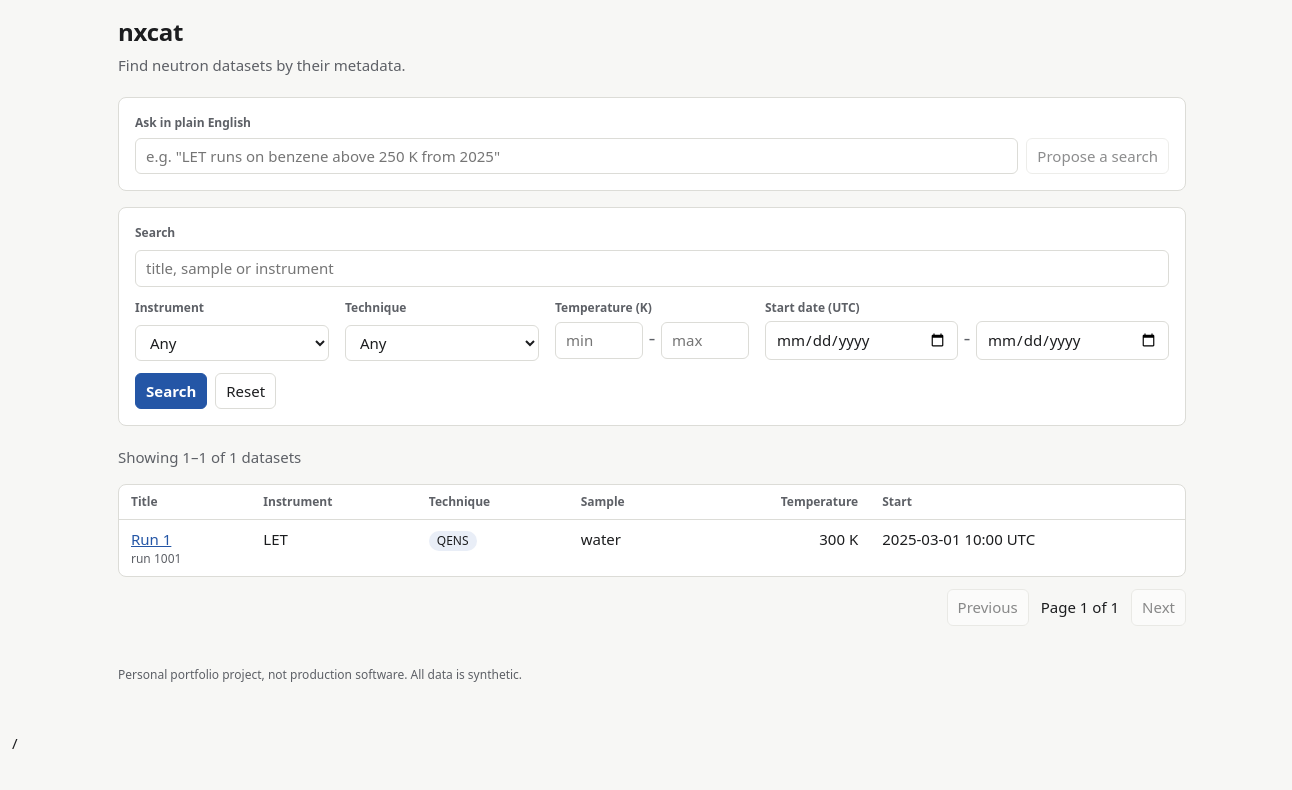
Test: plain-English search › shows the proposed filter in plain words and does not search yet
Check: the table is shown, box [119,484,1185,576]
In the field labelled "Ask in plain English": x=577, y=156 [135,138,1018,174], type "LET runs on benzene above 250 K from 2025"
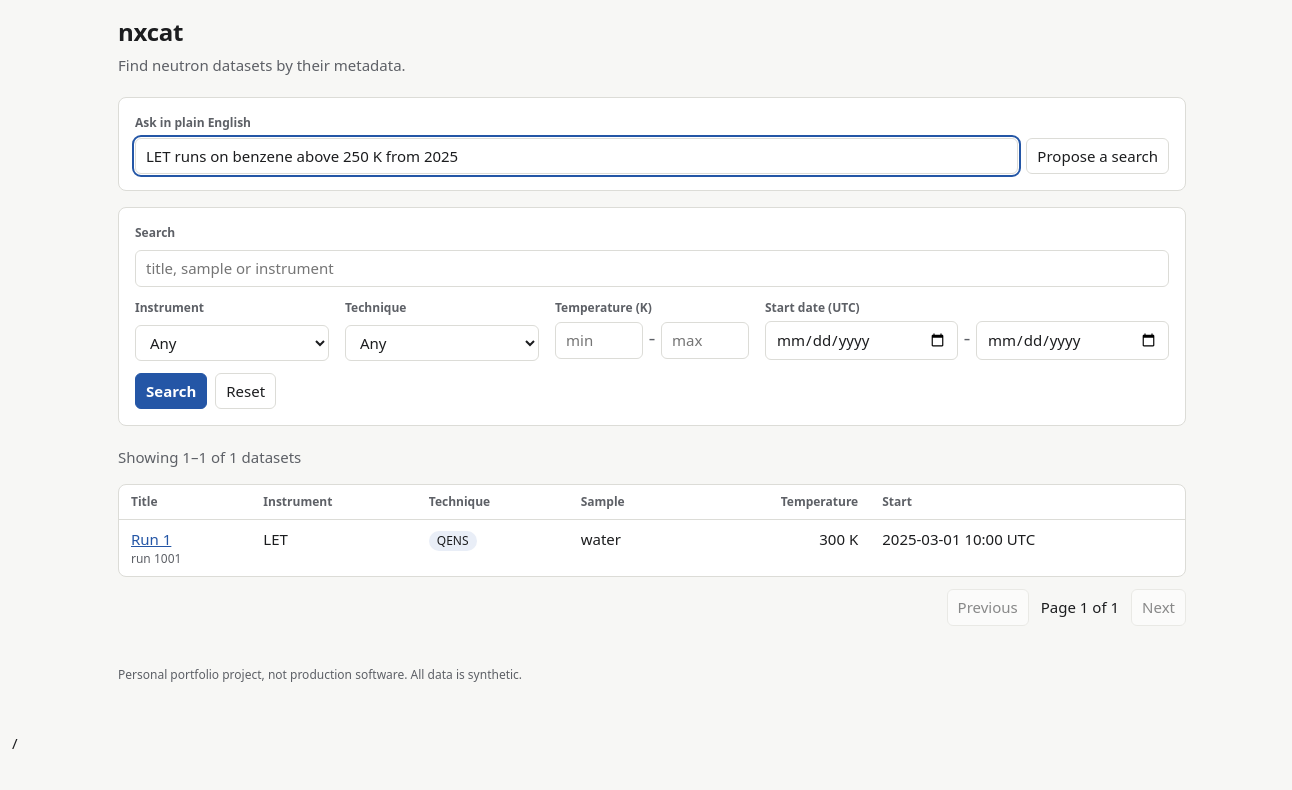
Click the button "Propose a search": x=1098, y=156 [1026,138,1169,174]
(page scrolled)
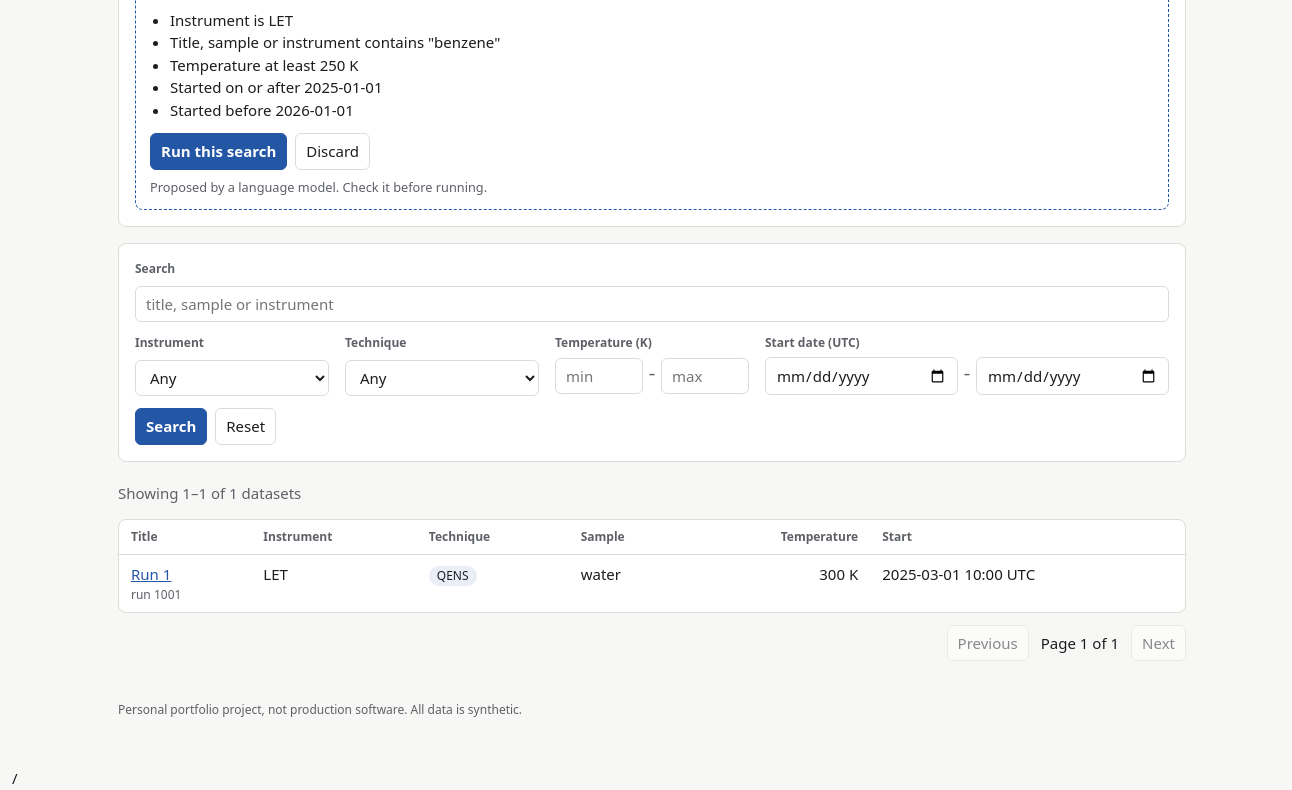
Check: the list item "Instrument is LET" is shown, box [170,10,293,30]
Check: the list item "Title, sample or instrument contains \"benzene\"" is shown, box [170,32,500,52]
Check: the list item "Temperature at least 250 K" is shown, box [170,54,359,74]
